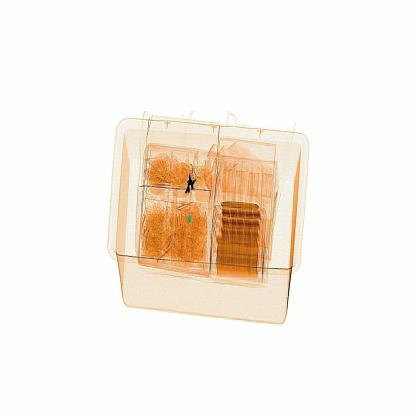gun: (174, 156, 219, 216)
